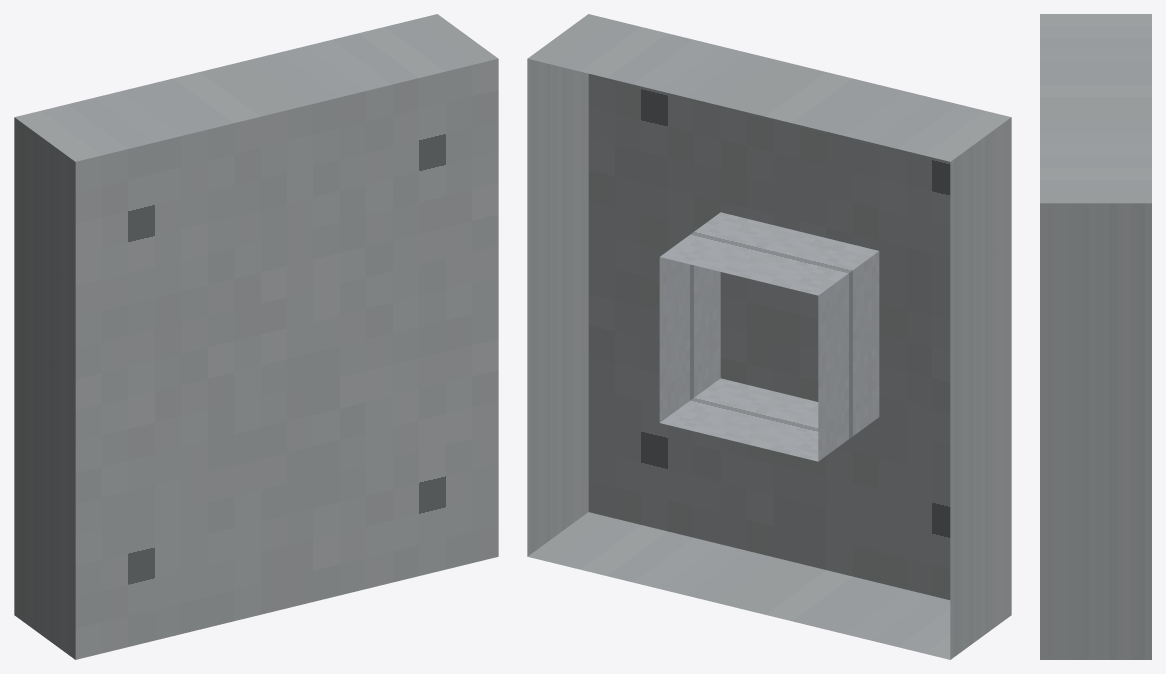
Rendered from opener_rail_0.obj.
3 views of the same model, side by side, from view 1: azimuth 30°, elevation 25°; view 2: azimuth 150°, elevation 25°; view 3: azimuth 270°, elevation 25° (orthographic). The views are drawn at different scales.
Parts seen in each view (by area): view 1: rail; view 2: rail; view 3: rail.
Part boxes in pixels (left/top/right/bottom): rail: left=14, top=14, right=498, bottom=659; rail: left=527, top=14, right=1011, bottom=659; rail: left=1040, top=14, right=1151, bottom=659.
Size of the model in its own units: 0.25 by 0.2812 by 0.0625.
